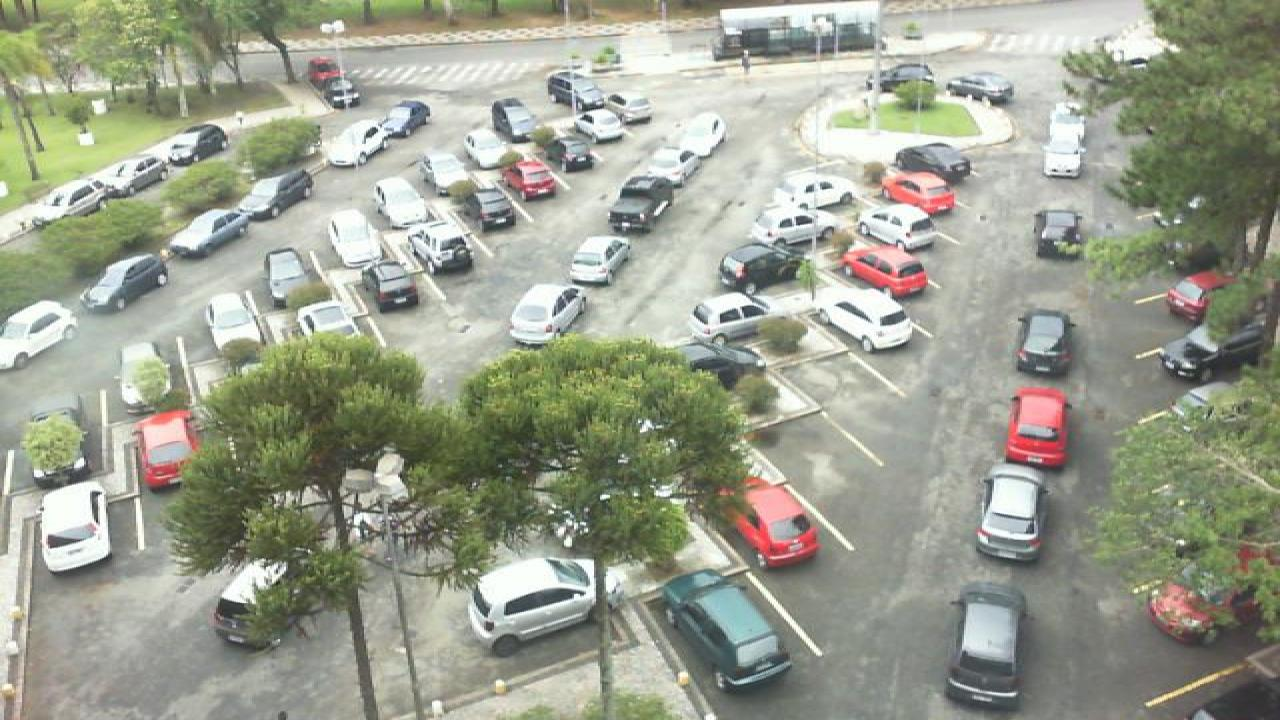Car: (660, 568, 794, 693), (466, 554, 620, 654), (942, 580, 1028, 708), (726, 476, 820, 569), (974, 465, 1050, 560), (38, 480, 112, 574), (1160, 318, 1266, 382), (1148, 575, 1244, 643), (210, 570, 286, 652), (828, 282, 914, 352), (26, 405, 94, 489), (1002, 385, 1070, 467), (82, 253, 170, 314), (508, 282, 588, 349), (0, 300, 76, 370), (132, 410, 198, 490), (840, 246, 930, 300), (688, 292, 768, 350), (1014, 307, 1076, 377), (166, 208, 250, 259), (716, 242, 798, 294), (204, 291, 266, 359), (608, 176, 678, 235), (674, 342, 758, 388), (1164, 270, 1234, 325), (858, 204, 938, 252), (878, 170, 958, 217), (238, 173, 316, 219), (772, 169, 856, 210), (322, 118, 390, 168), (754, 205, 836, 246), (330, 208, 384, 269), (410, 222, 468, 276), (896, 142, 974, 182), (572, 236, 632, 287), (1040, 112, 1086, 178), (266, 247, 318, 305), (40, 178, 114, 218), (370, 254, 420, 313), (102, 153, 168, 196), (674, 111, 730, 161), (158, 124, 228, 163), (308, 57, 360, 109), (422, 146, 474, 198), (376, 177, 428, 227), (646, 146, 706, 188), (546, 70, 608, 110), (944, 72, 1016, 105), (504, 158, 556, 202), (378, 99, 432, 141), (296, 300, 352, 340), (490, 98, 540, 140), (866, 63, 936, 93), (572, 108, 628, 143), (466, 125, 510, 169), (546, 132, 594, 170), (606, 91, 652, 125)
